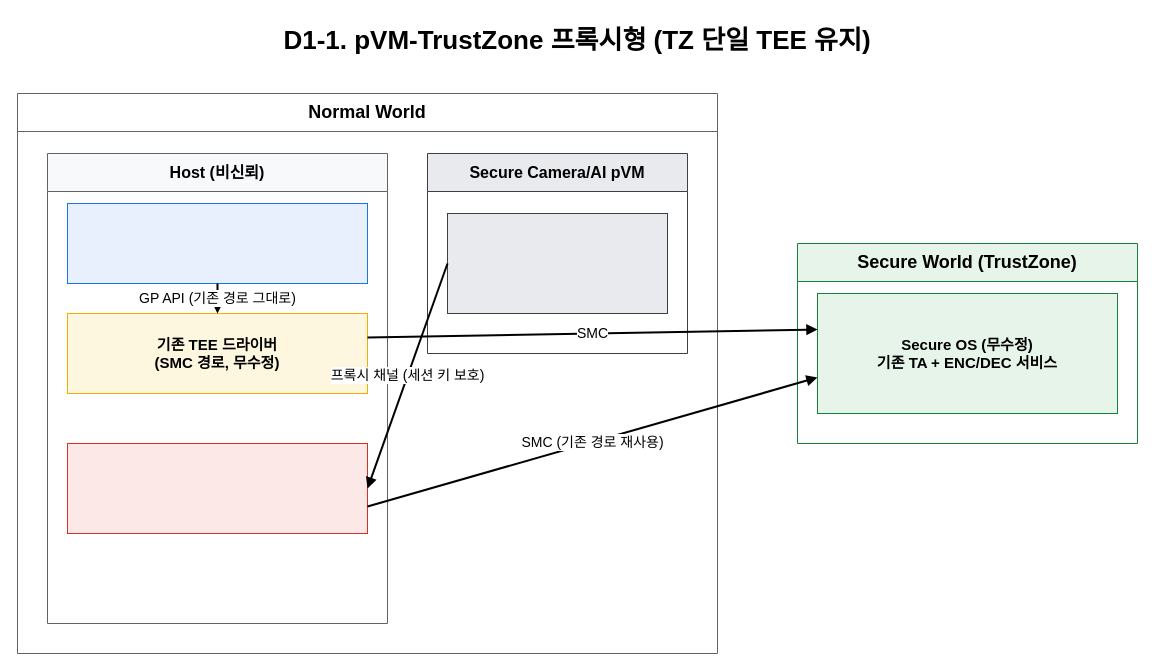
The diagram is 1155 pixels wide and 671 high, and some of its shapes have lost their labels. Here are the shapes that lost their labels. From the top down, the centre of each, then its label:
At point (217, 243): "기존 REE App (libteec, 무수정)".
At point (557, 263): "GP Client 프록시 (libteec 호환)".
At point (217, 488): "Framework 중계 드라이버 (요청 중계, 내용은 세션 키 보호)".
